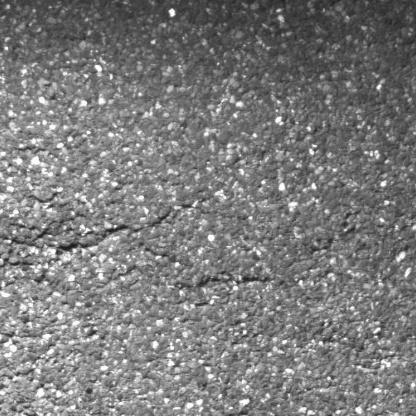Cracks: (0, 202, 280, 294)
